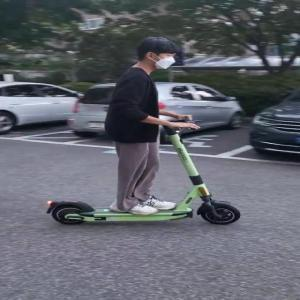with scooter: (47, 38, 240, 226)
